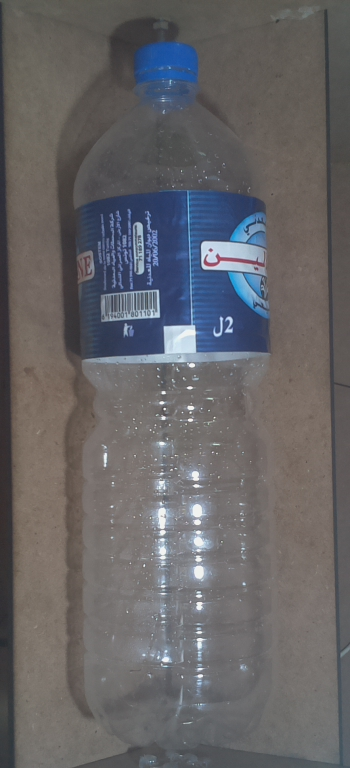Bouteille_2L: (67, 37, 283, 759)
